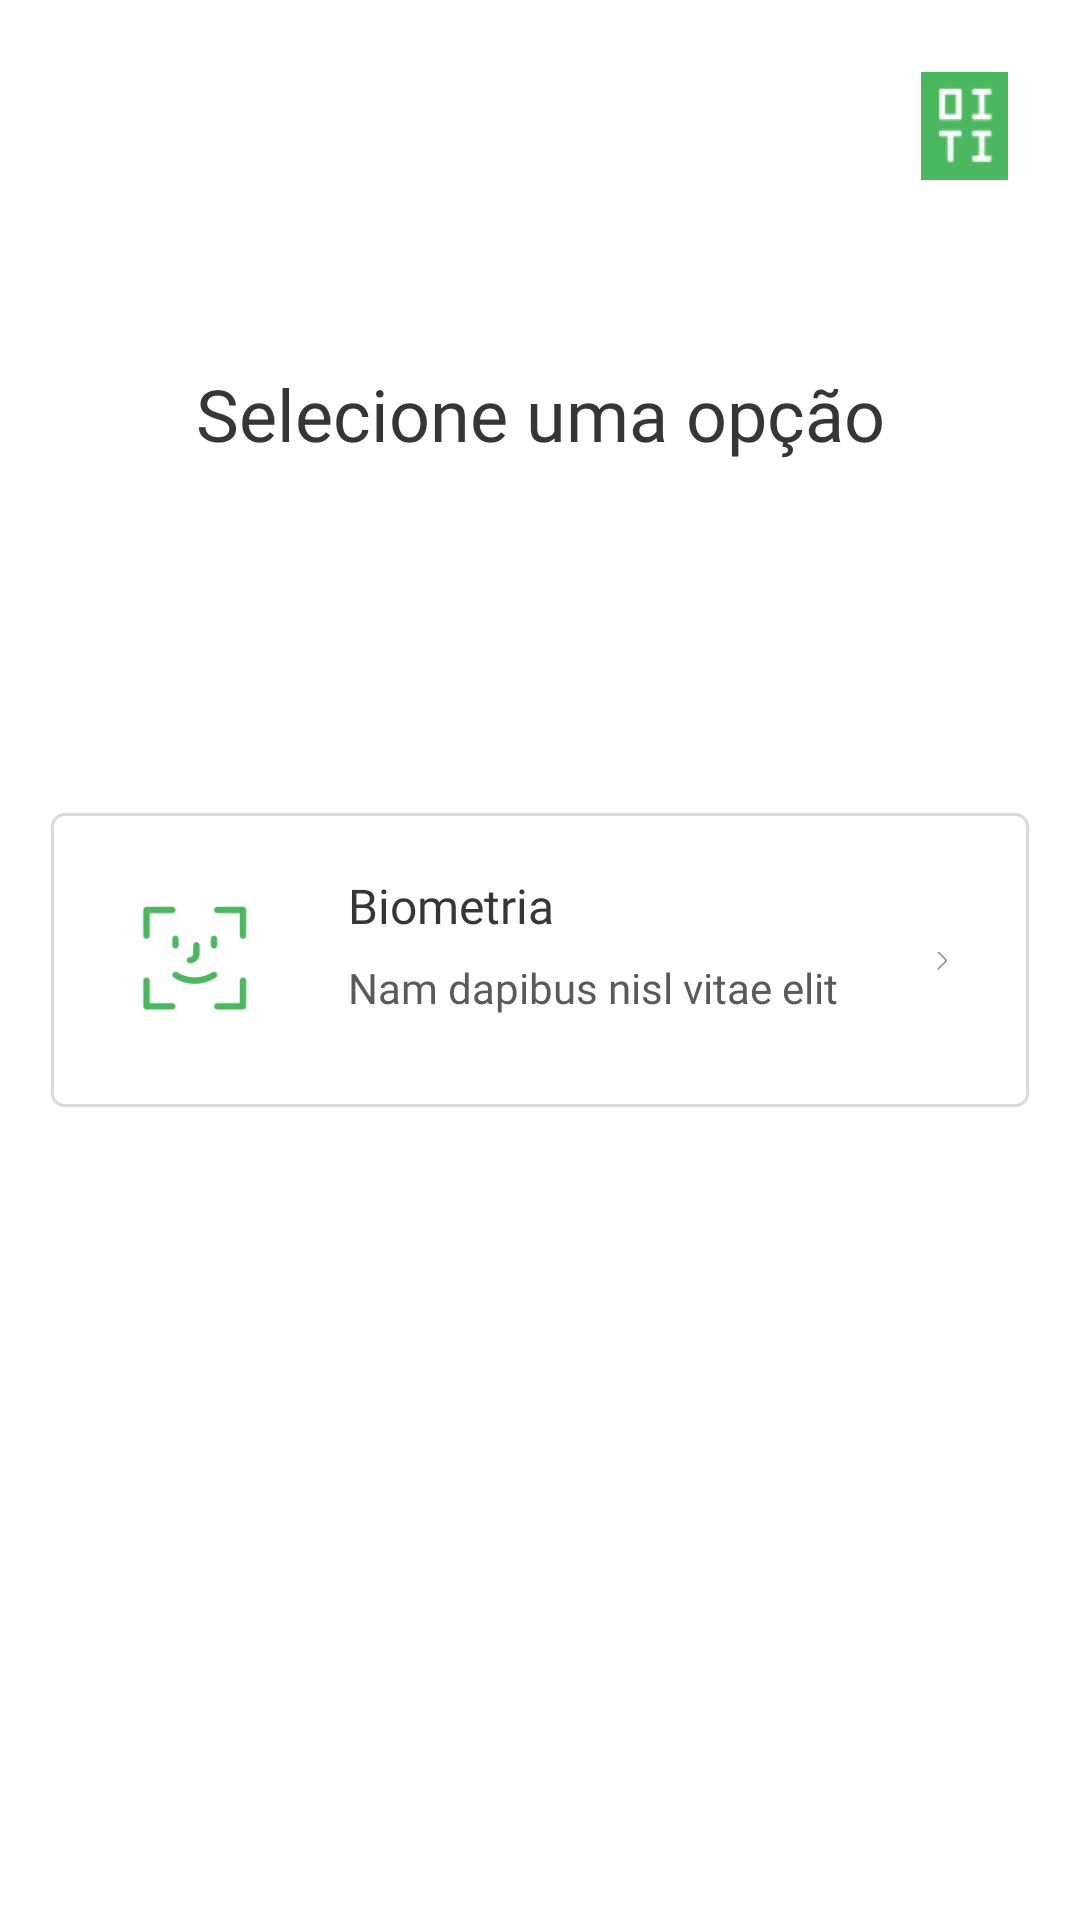

Where icons sit on this 1080px x 1920px app screen, as (x1, y1, x2, y2):
icone de scan facial: (143, 906, 247, 1010)
